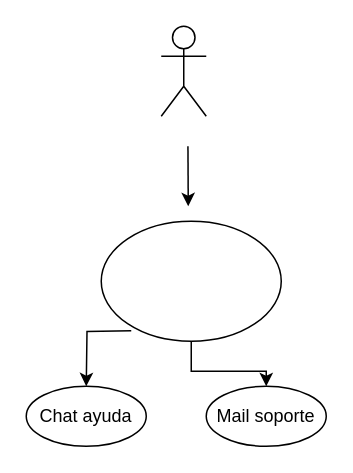
The diagram is 353 pixels wide and 473 high, and some of its shapes have lost their labels. Here are the shapes that lost their labels. From the top down, the centre of each, then its label:
At point 183,70: "USUARIO".
At point 190,280: "Acceder a ayuda".
